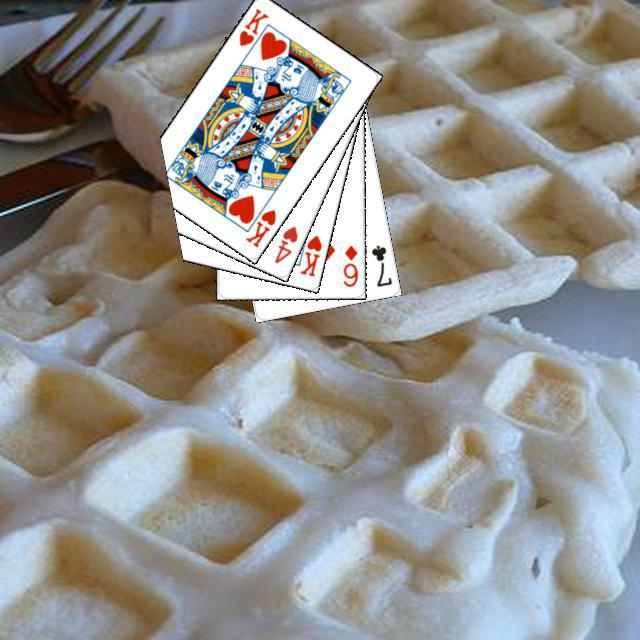4h: (269, 221, 299, 265)
6d: (338, 240, 359, 288)
7c: (366, 240, 394, 289)
Kh: (239, 195, 278, 249), (291, 224, 323, 278), (234, 3, 270, 48)
